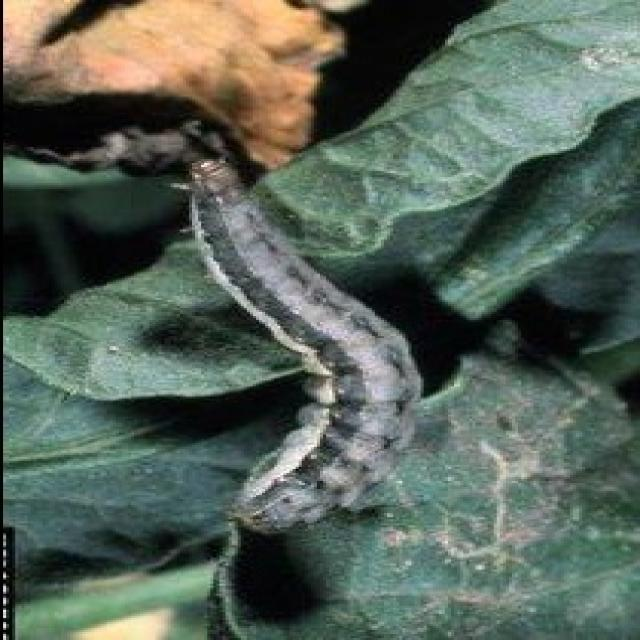army worm: (174, 150, 439, 532)
